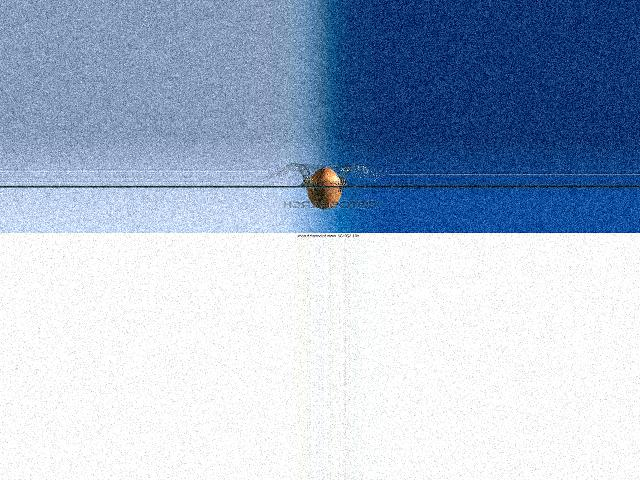egg: (306, 167, 341, 209)
